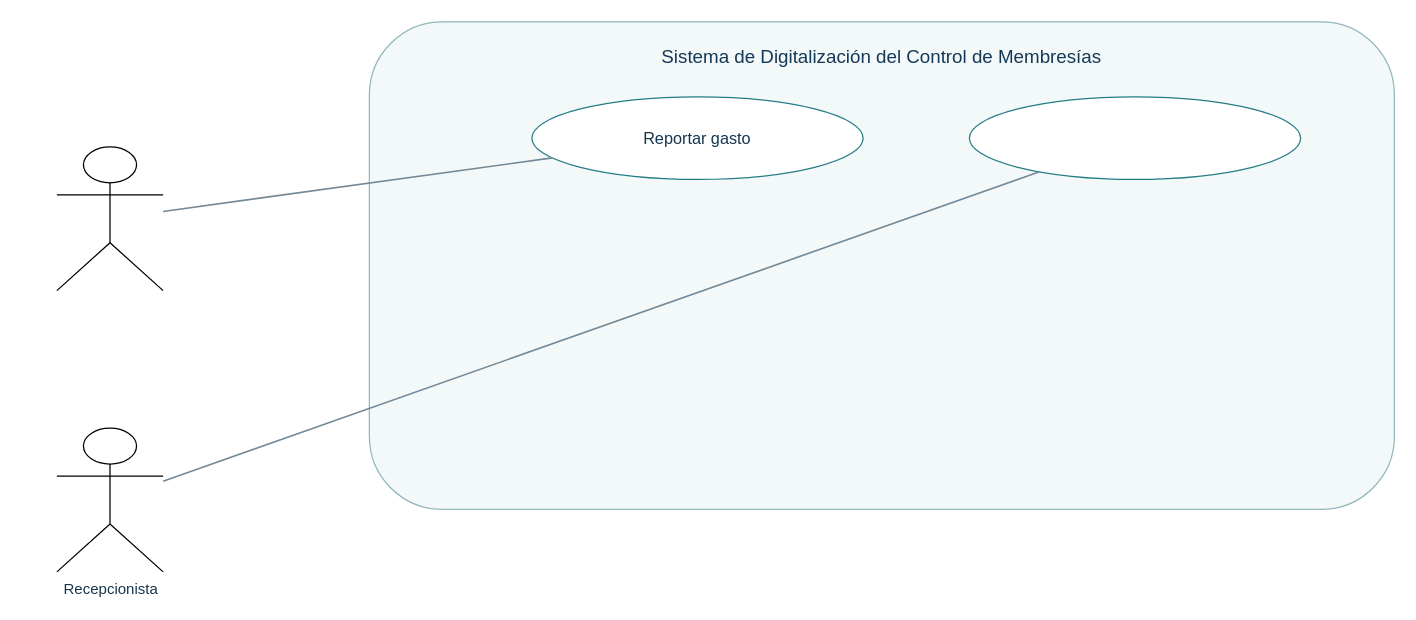
Image size: 1416x620. Some labels were removed from this diagram. The centre of each missing label's shape, as x and y in pixels:
"Administrador / propietario" goes at point (109, 218).
"Registrar salida" goes at point (1134, 137).
